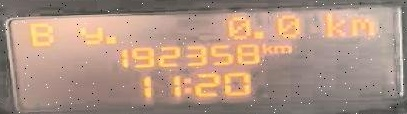-: (101, 33, 118, 46), (250, 28, 263, 39)
0: (220, 70, 252, 96), (272, 12, 302, 39), (222, 14, 249, 40)
1: (135, 73, 156, 98), (162, 73, 180, 97), (114, 46, 128, 68)
2: (192, 70, 220, 97), (155, 43, 180, 68)
3: (181, 44, 208, 67)
5: (208, 43, 232, 66)
8: (235, 42, 259, 65)
9: (130, 45, 154, 68)
X: (24, 20, 55, 47), (317, 11, 347, 38), (348, 15, 377, 37), (74, 25, 101, 46), (272, 44, 290, 55), (181, 76, 191, 93), (259, 41, 272, 54)
